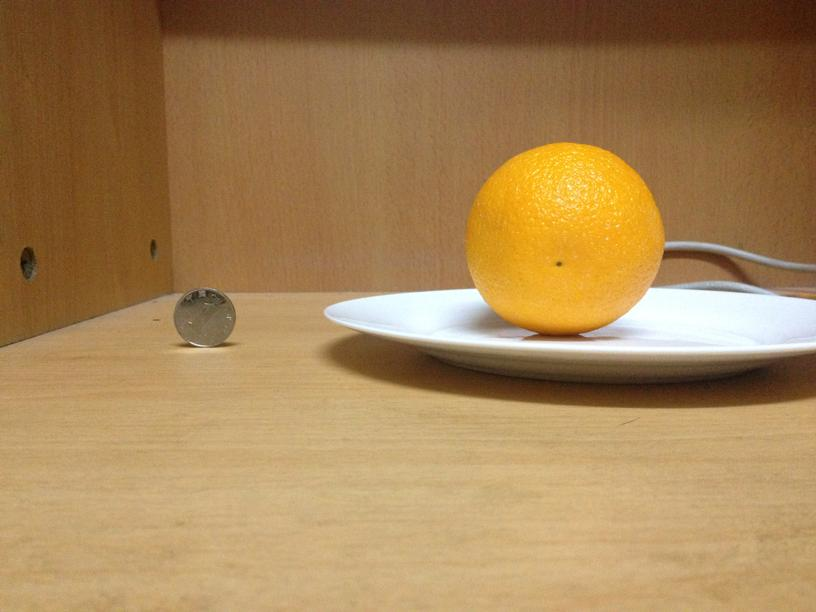coin: (171, 286, 237, 347)
orange: (467, 141, 665, 333)
